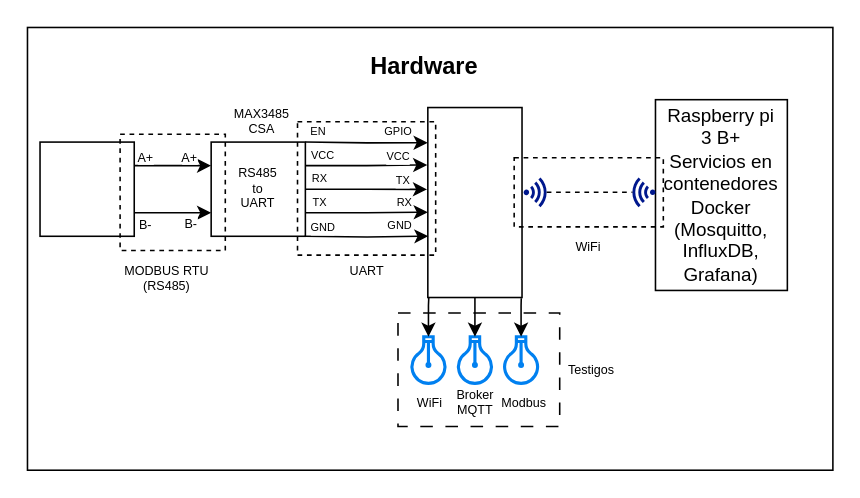
Image size: 860x498. Some labels were removed from this diagram. Here are the shapes that lost their labels. From the top down, the centre of each, then its label:
At (x=86, y=188): "Klea 220".
At (x=474, y=202): "ESP32 Cliente MQTT".
